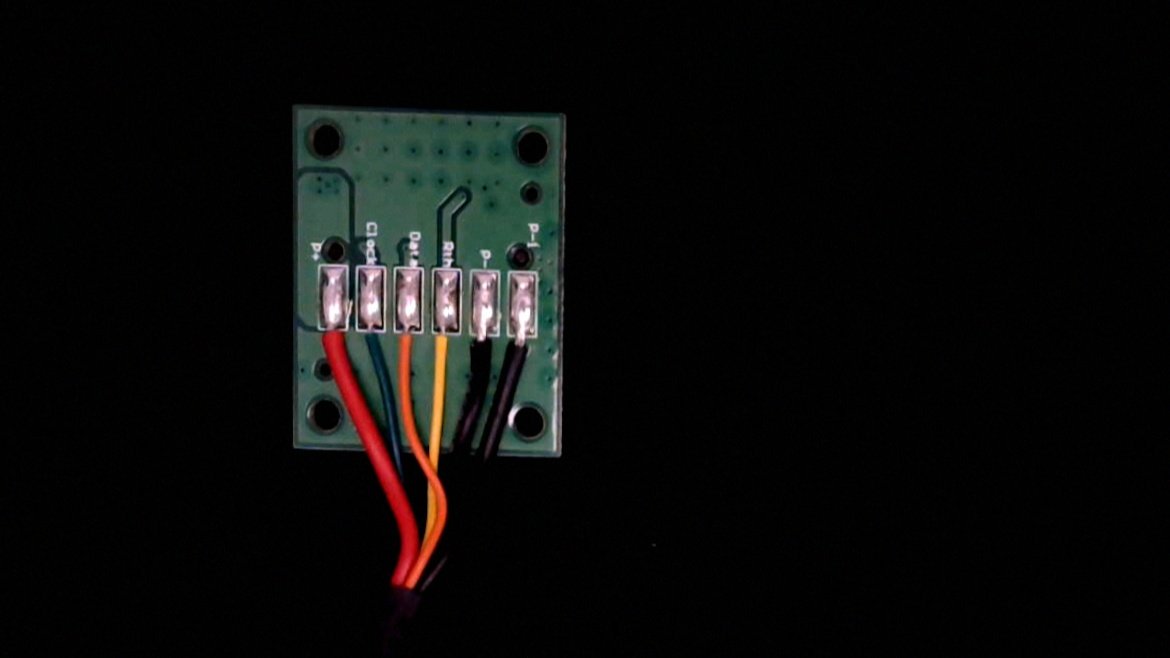Black: (466, 316, 500, 391)
Black1: (507, 314, 540, 383)
Green: (356, 311, 388, 376)
Orange: (390, 311, 424, 375)
Red: (316, 313, 350, 377)
Yellow: (430, 313, 463, 390)
